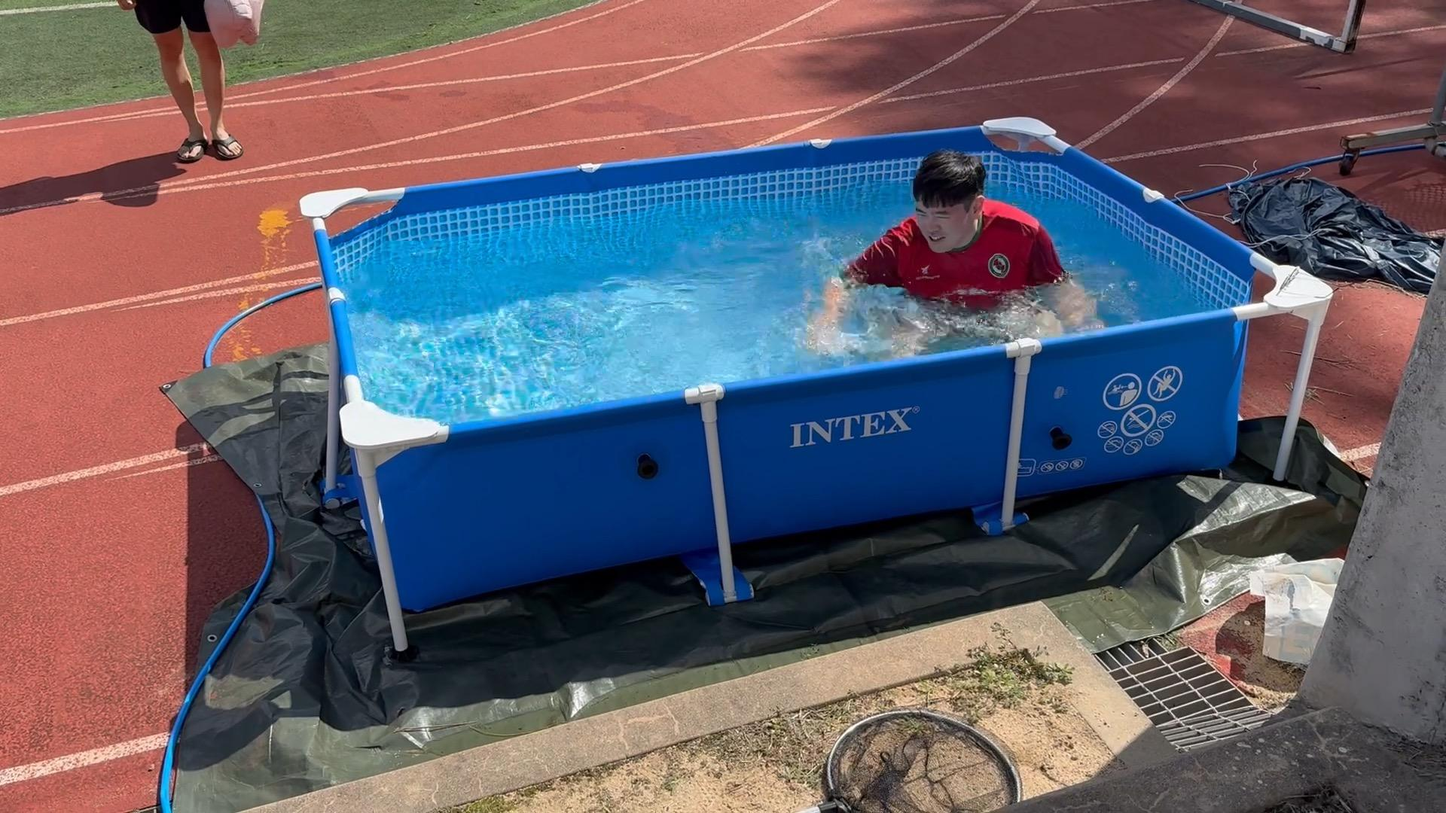Person-out-of-water: (111, 0, 309, 187)
Swimming: (786, 139, 1131, 358)
